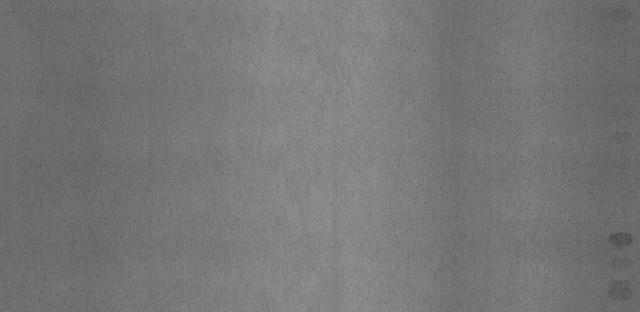oil_spot: (605, 275, 633, 306), (607, 228, 634, 251)
